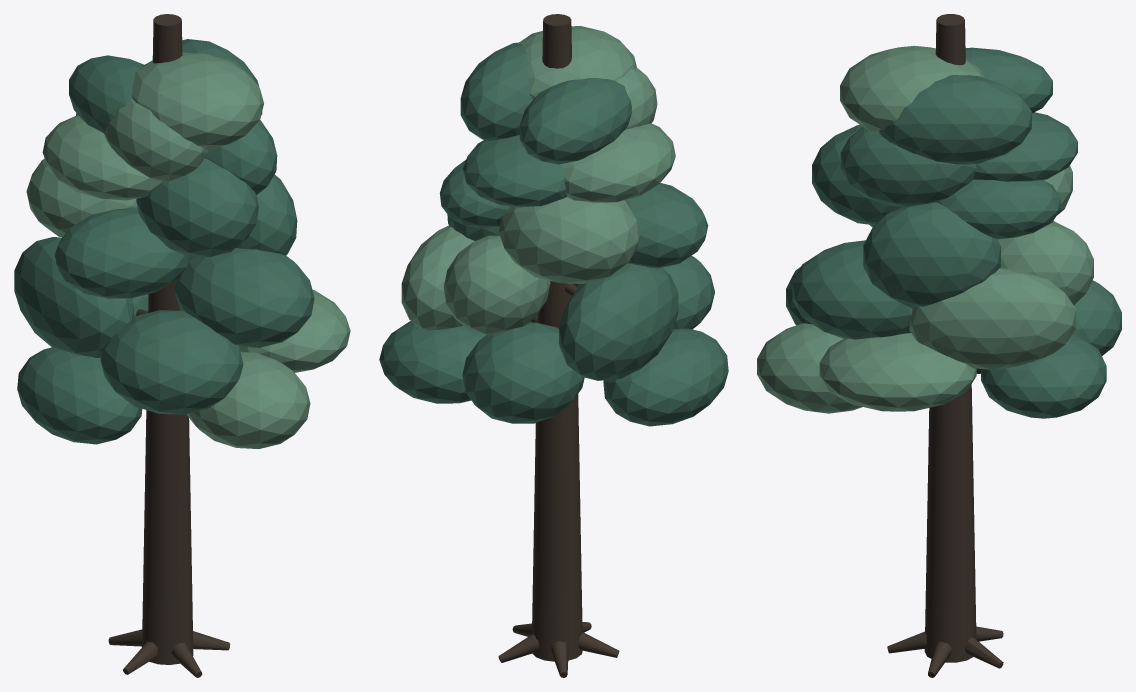
Rendered from layered-araucaria.glb.
3 renders of one model, left to right at view 1: azimuth 30°, elevation 25°; view 2: azimuth 150°, elevation 25°; view 3: azimuth 270°, elevation 25°, orthographic.
Visible parts, largest first — view 1: trunk, foliage-5, foliage-8, foliage-21, foliage-10, foliage-13, foliage-2, foliage-7, foliage-0, foliage-15, foliage-18, foliage-20 (+7 smaller); view 2: trunk, foliage-7, foliage-12, foliage-4, foliage-2, foliage-20, foliage-9, foliage-15, foliage-1, foliage-17, foliage-19, foliage-10 (+8 smaller); view 3: trunk, foliage-6, foliage-11, foliage-19, foliage-3, foliage-8, foliage-1, foliage-16, foliage-21, foliage-0, foliage-14, foliage-9 (+6 smaller).
Boxes of the visible parts, left/top/right/bottom form: trunk: left=142, top=14, right=193, bottom=664; foliage-5: left=100, top=310, right=243, bottom=414; foliage-8: left=174, top=248, right=314, bottom=347; foliage-21: left=132, top=52, right=263, bottom=149; foliage-10: left=55, top=208, right=190, bottom=298; foliage-13: left=136, top=158, right=258, bottom=256; foliage-2: left=17, top=347, right=142, bottom=444; foliage-7: left=14, top=237, right=133, bottom=357; foliage-0: left=186, top=351, right=310, bottom=448; foliage-15: left=42, top=115, right=161, bottom=200; foliage-18: left=104, top=99, right=208, bottom=181; foliage-20: left=69, top=55, right=144, bottom=133; trunk: left=532, top=14, right=582, bottom=661; foliage-7: left=559, top=263, right=678, bottom=380; foliage-12: left=498, top=197, right=640, bottom=283; foliage-4: left=462, top=322, right=584, bottom=423; foliage-2: left=603, top=328, right=728, bottom=426; foliage-20: left=519, top=78, right=631, bottom=164; foliage-9: left=443, top=235, right=550, bottom=334; foliage-15: left=562, top=123, right=675, bottom=202; foliage-1: left=379, top=321, right=486, bottom=403; foliage-17: left=463, top=135, right=566, bottom=207; foliage-19: left=460, top=42, right=532, bottom=140; foliage-10: left=624, top=183, right=708, bottom=268; trunk: left=924, top=14, right=976, bottom=662; foliage-6: left=909, top=268, right=1075, bottom=369; foliage-11: left=863, top=202, right=1000, bottom=308; foliage-19: left=879, top=75, right=1031, bottom=164; foliage-3: left=819, top=333, right=976, bottom=411; foliage-8: left=792, top=240, right=912, bottom=339; foliage-1: left=981, top=334, right=1106, bottom=418; foliage-16: left=840, top=127, right=976, bottom=206; foliage-21: left=840, top=45, right=984, bottom=132; foliage-0: left=757, top=323, right=862, bottom=413; foliage-14: left=937, top=179, right=1060, bottom=239; foliage-9: left=998, top=221, right=1093, bottom=304.
Bounding box in the file's own units: 2.97 × 6.24 × 3.26.
